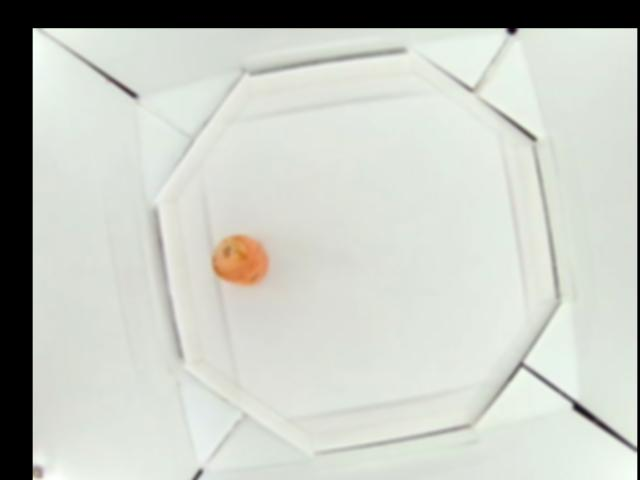Carrot: (209, 232, 269, 286)
